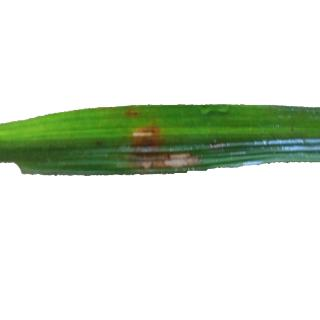Hawar-Daun: (132, 112, 158, 173), (164, 138, 198, 172), (126, 105, 140, 122)
